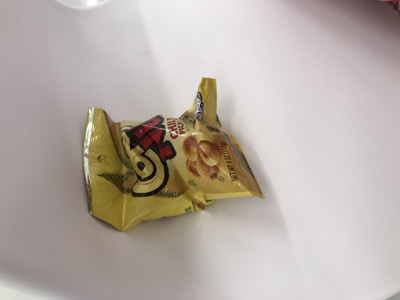corn nuts: (81, 74, 268, 231)
